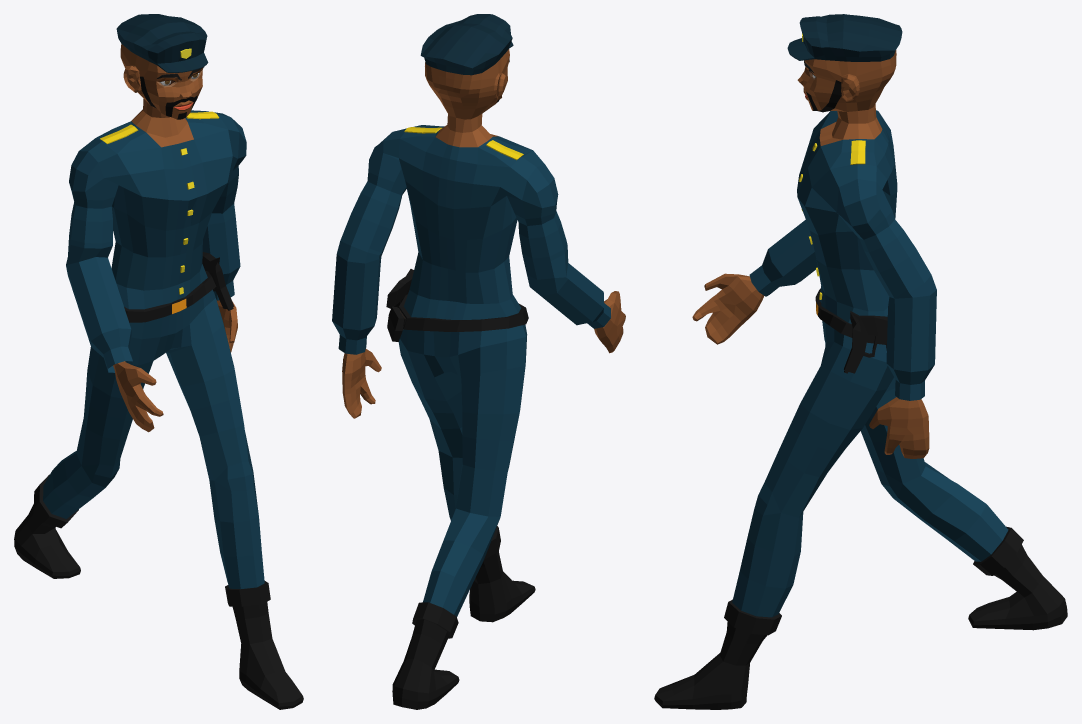
The model's file is Police_Walk.fbx.
3 renders of one model, left to right at view 1: azimuth 30°, elevation 25°; view 2: azimuth 150°, elevation 25°; view 3: azimuth 270°, elevation 25°, orthographic. The views are drawn at different scales.
Visible parts, largest first — view 1: Police_Walk; view 2: Police_Walk; view 3: Police_Walk.
Part boxes in pixels (box(x1,y1,x2,y2)): Police_Walk: box(14, 14, 303, 709); Police_Walk: box(332, 14, 625, 709); Police_Walk: box(654, 14, 1067, 709).
Bounding box in the file's own units: 0.3759 × 1.09 × 0.6177.
